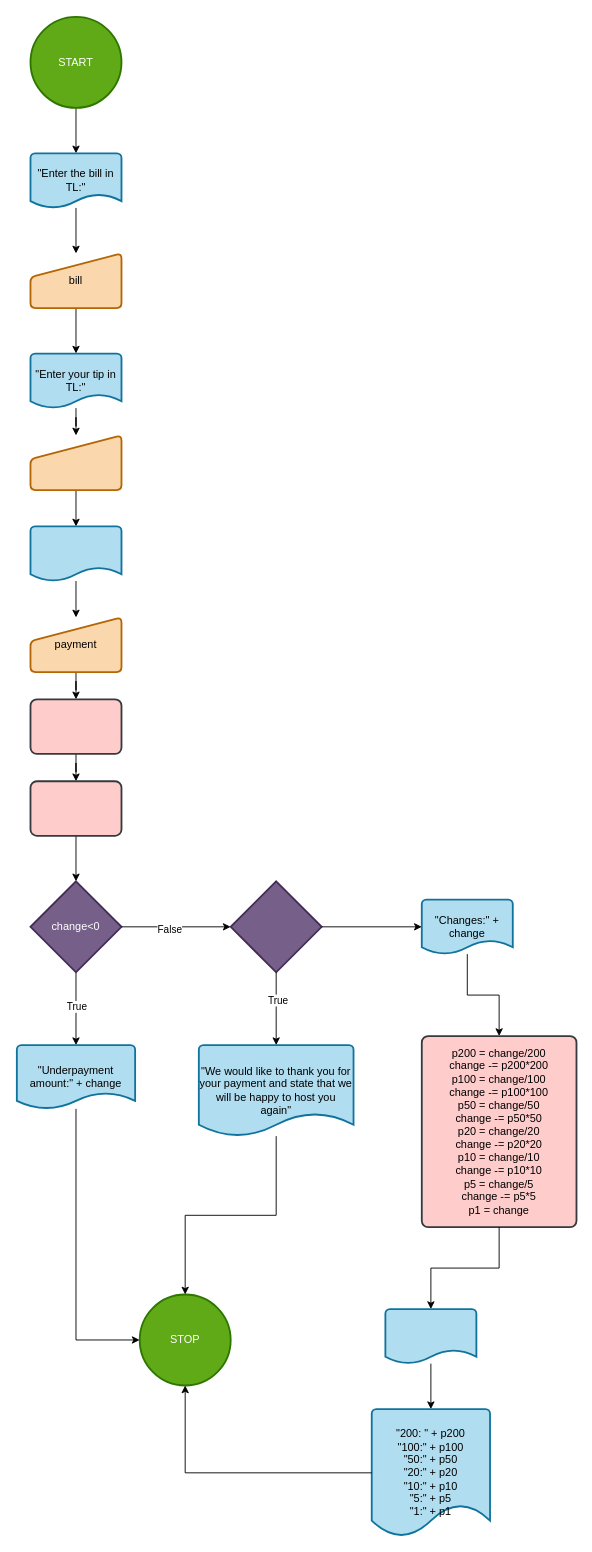
This 592x1552 diagram has some shape labels left out. Each missing label, with the centre of its shape:
"Enter the amount paid in TL:": (x=75, y=553)
"Minimum Amount of Payment:": (x=430, y=1336)
change = payment - total: (x=75, y=808)
change==0: (x=275, y=926)
tip: (x=75, y=462)
total = bill + tip: (x=75, y=726)
